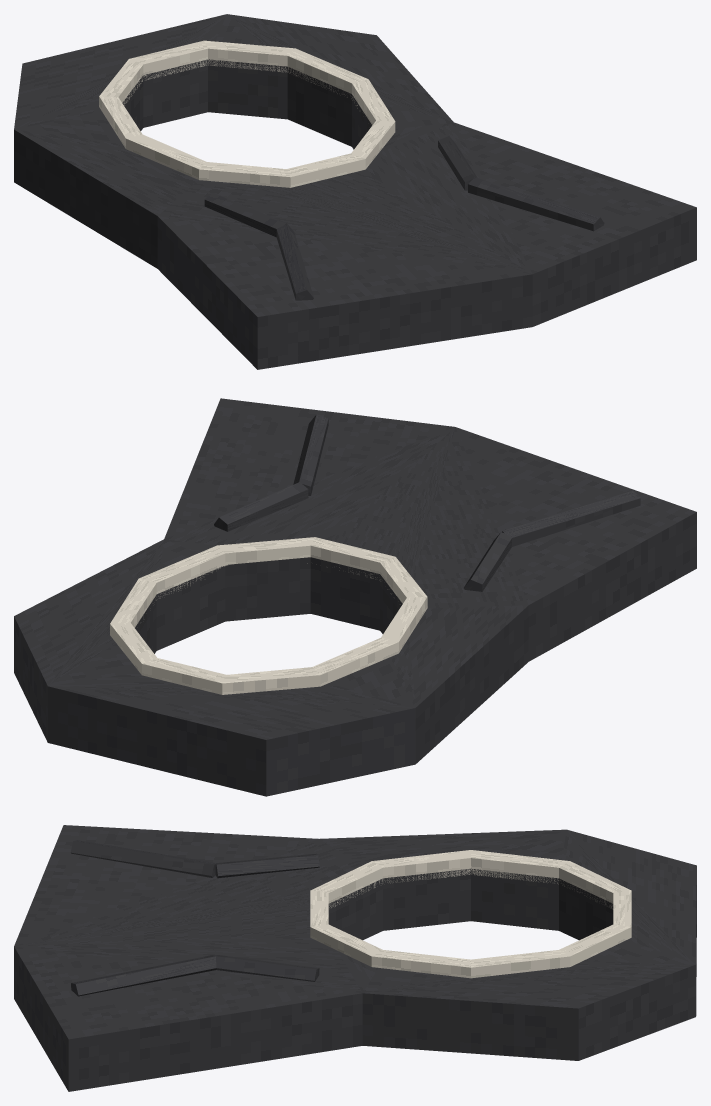
File: nun_wimple.glb
3 views of the same model, one above another, from view 1: azimuth 30°, elevation 25°; view 2: azimuth 150°, elevation 25°; view 3: azimuth 270°, elevation 25° (orthographic). The views are drawn at different scales.
Parts seen in each view (by area): view 1: block_shaped face opening and fabric, block_stitched face border, block_cloth folds 1 (×2), block_cloth folds 0 (×2); view 2: block_shaped face opening and fabric, block_stitched face border, block_cloth folds 1 (×2), block_cloth folds 0 (×2); view 3: block_shaped face opening and fabric, block_stitched face border, block_cloth folds 1 (×2), block_cloth folds 0 (×2).
Part boxes in pixels (box(x1,y1,x2,y2)): block_shaped face opening and fabric: box(14, 14, 696, 369); block_stitched face border: box(99, 40, 395, 187); block_cloth folds 1 (×2): box(276, 177, 604, 300); block_cloth folds 0 (×2): box(204, 136, 477, 237); block_shaped face opening and fabric: box(14, 398, 696, 796); block_stitched face border: box(110, 537, 427, 694); block_cloth folds 1 (×2): box(293, 414, 640, 546); block_cloth folds 0 (×2): box(214, 482, 511, 591); block_shaped face opening and fabric: box(14, 825, 696, 1091); block_stitched face border: box(310, 850, 631, 978); block_cloth folds 1 (×2): box(70, 840, 216, 996); block_cloth folds 0 (×2): box(215, 854, 319, 981).
Size of the model in its own units: 0.1203 by 0.0168 by 0.1619.
Materials: 1 (1 with a texture image).
